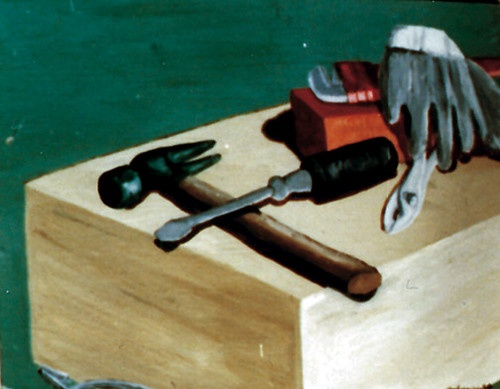hammer: (97, 140, 384, 305)
